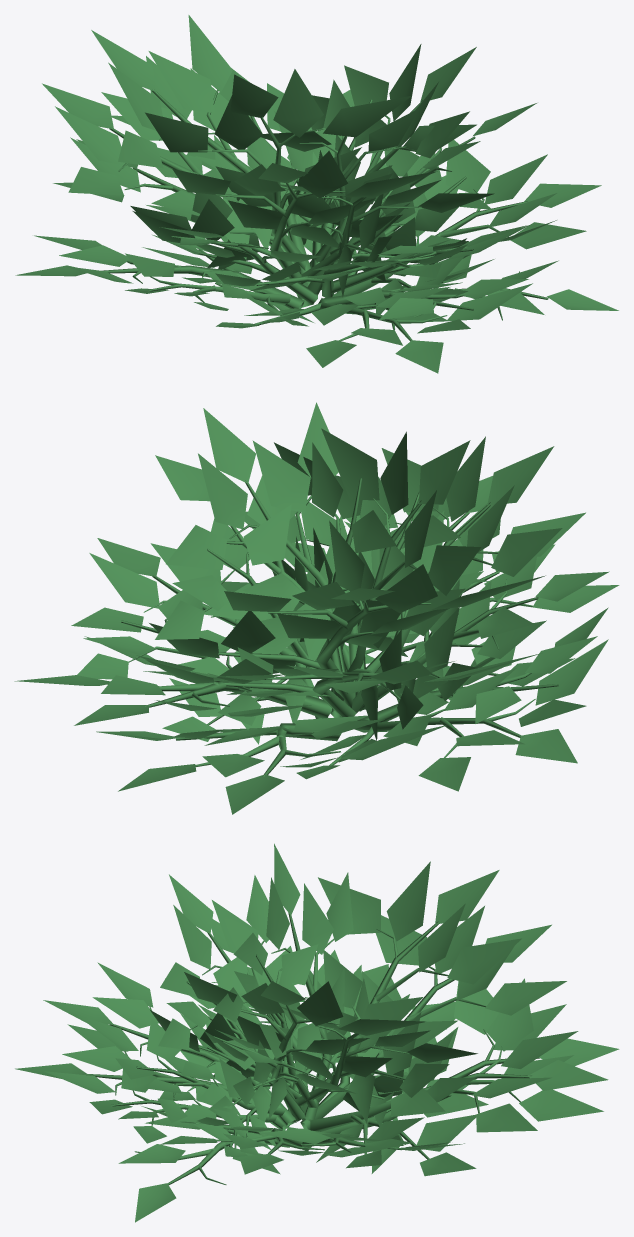
The model's file is bush1.fbx.
The picture shows the model from 3 angles, top to bottom: view 1: azimuth 30°, elevation 25°; view 2: azimuth 150°, elevation 25°; view 3: azimuth 270°, elevation 25°; orthographic projection. The views are drawn at different scales.
Parts seen in each view (by area): view 1: bush1; view 2: bush1; view 3: bush1.
Part boxes in pixels (bbox=[...]): bush1: bbox=[15, 15, 618, 373]; bush1: bbox=[14, 402, 619, 814]; bush1: bbox=[15, 843, 619, 1222].
Size of the model in its own units: 6.65 by 3.43 by 7.36.
